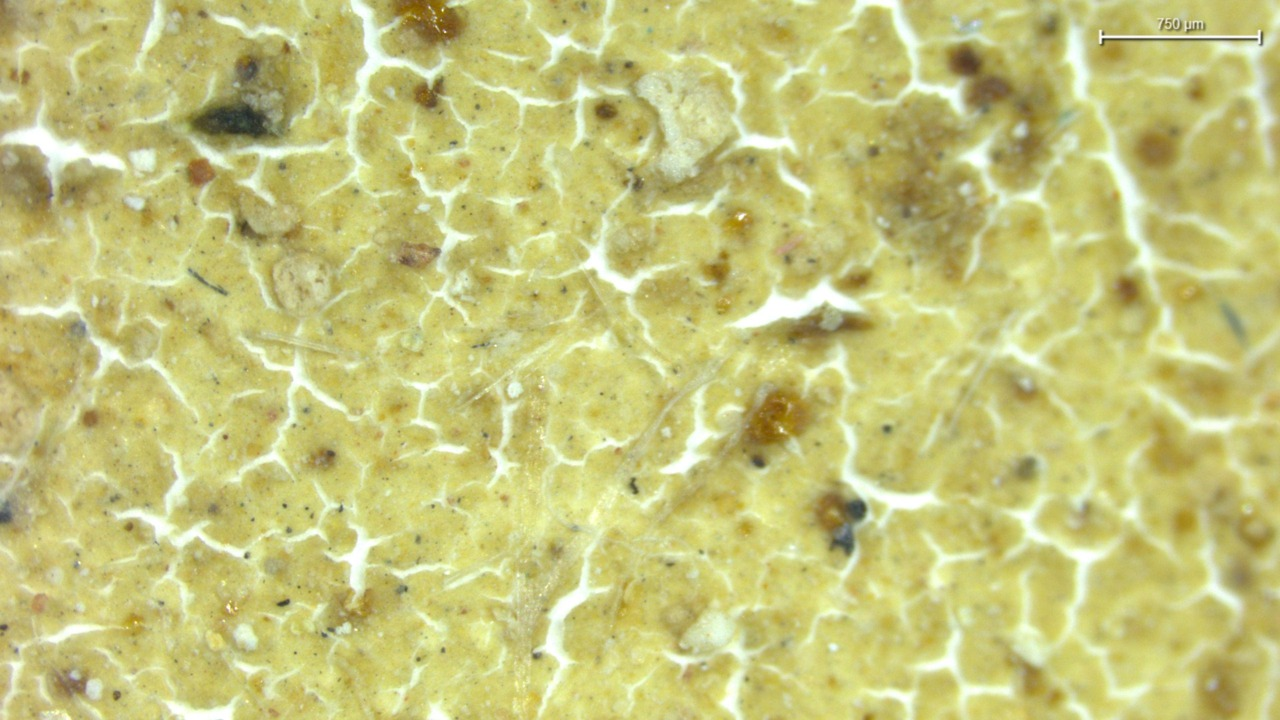microplastic_fragment: (633, 66, 741, 188), (270, 255, 334, 315), (237, 192, 300, 237), (678, 609, 734, 652), (234, 624, 258, 650), (86, 677, 103, 703)
